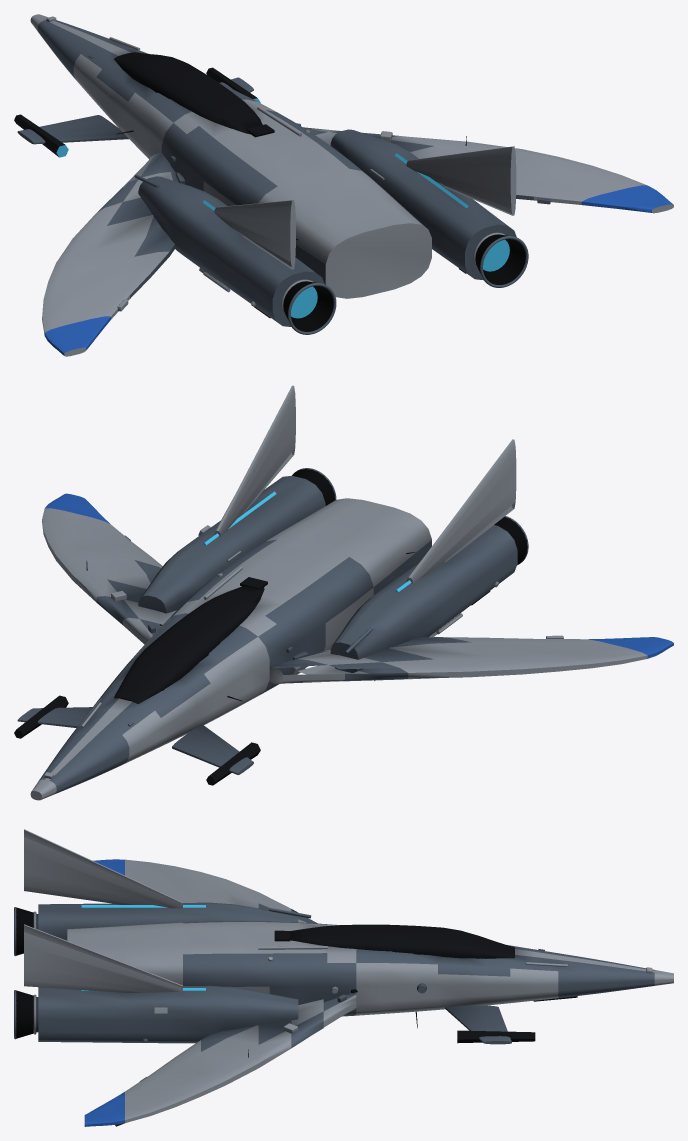
The model's file is kestrel-transformed.glb.
3 renders of one model, top to bottom at view 1: azimuth 30°, elevation 25°; view 2: azimuth 150°, elevation 25°; view 3: azimuth 270°, elevation 25°, orthographic. The views are drawn at different scales.
Parts seen in each view (by area): view 1: kestrel; view 2: kestrel; view 3: kestrel.
Boxes of the visible parts, x1,y1,x2,y2 form: kestrel: (14,14,673,356); kestrel: (14,385,673,800); kestrel: (14,829,673,1126).
Size of the model in its own units: 22.67 by 5.41 by 24.
